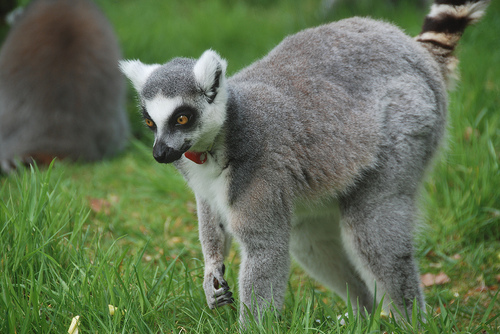cat: (119, 0, 497, 333), (0, 2, 133, 176)
